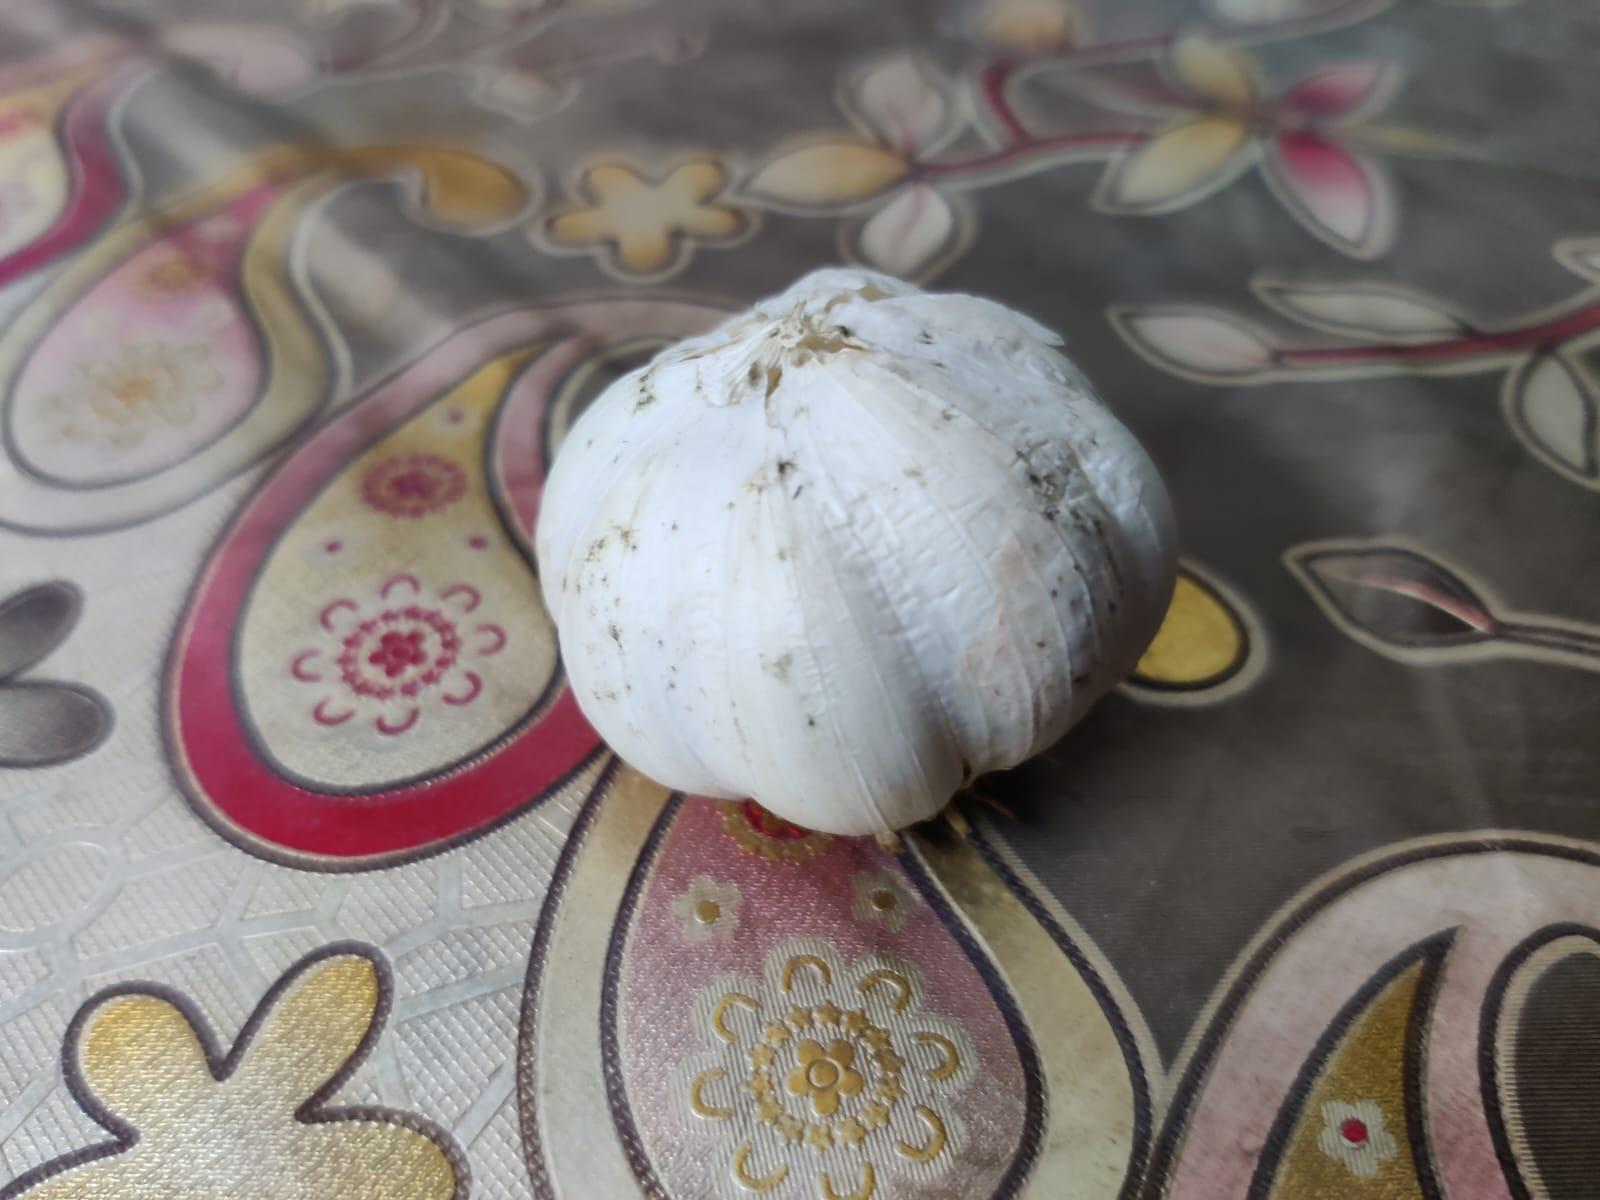non-mango: (533, 261, 1172, 850)
